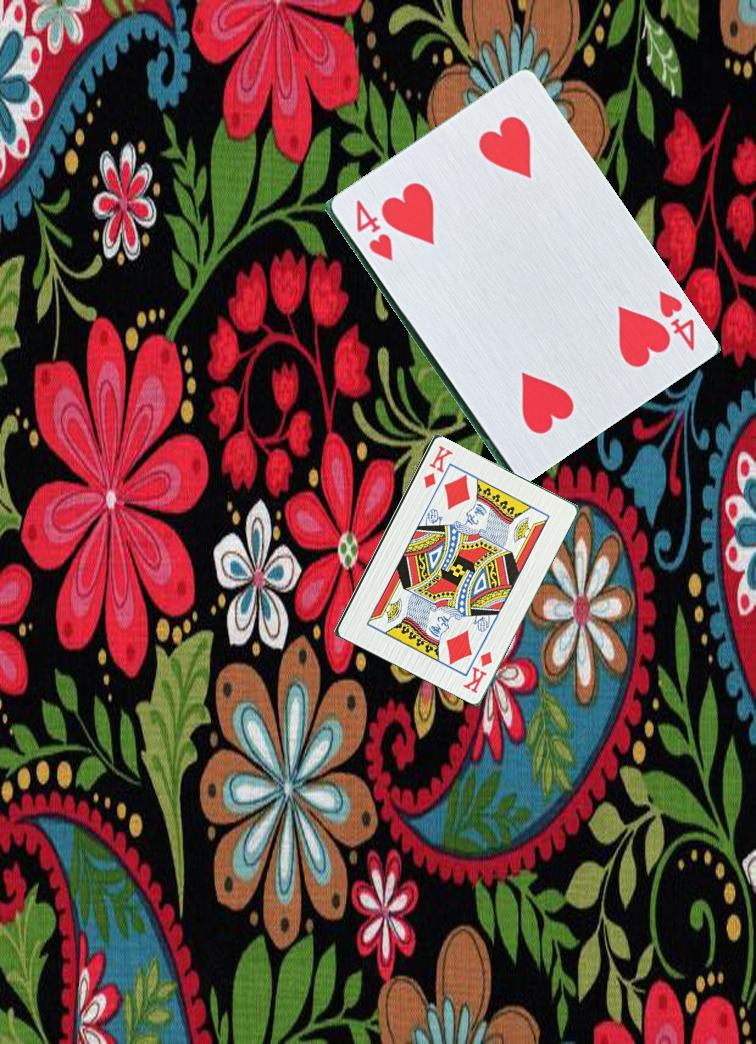4h: (640, 281, 698, 364), (351, 195, 396, 265)
kd: (460, 647, 495, 696), (420, 441, 454, 491)
